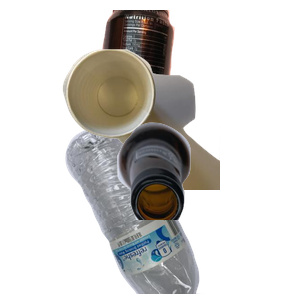glass: (115, 120, 300, 300)
metal: (91, 10, 258, 188)
plastic: (63, 120, 263, 300)
trash: (60, 47, 300, 227)
